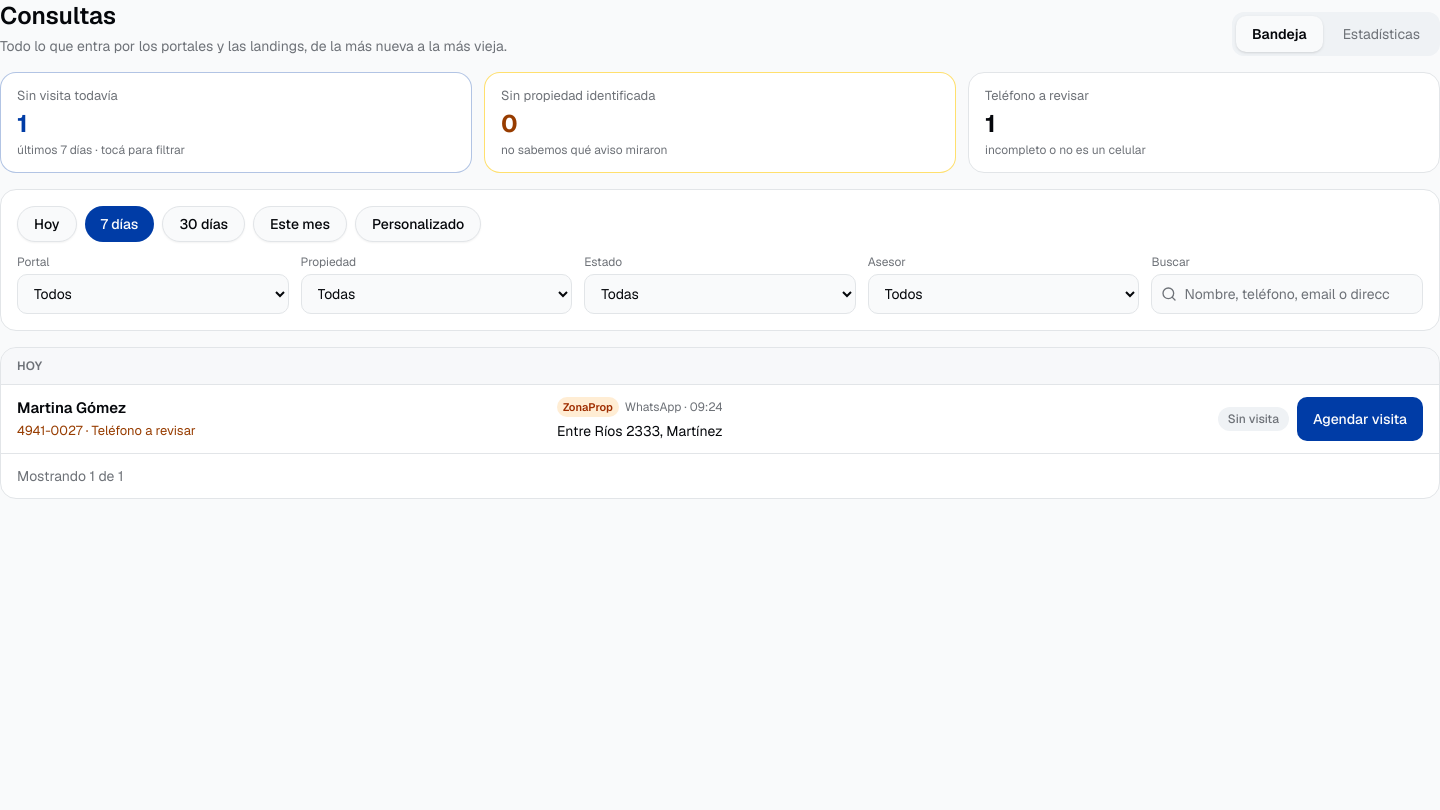
Test case: /consultas — bandeja › un teléfono a revisar abre primero "Revisá el teléfono"
This screenshot has width=1440, height=810.
Click the button "Agendar visita" at (1360, 419), box [1297,397,1423,441]
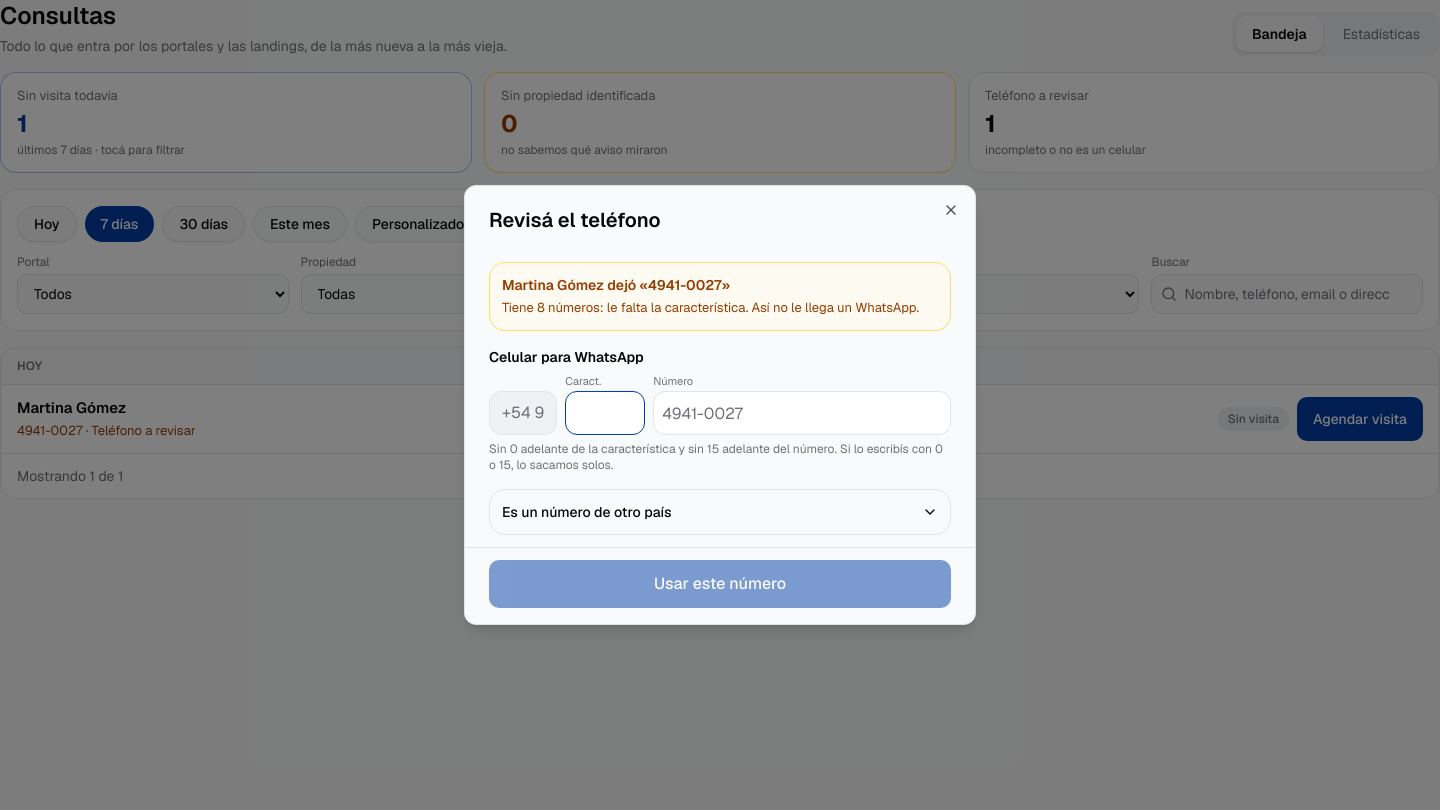
Expected: the heading "Revisá el teléfono" is shown, [489,207,660,233]
